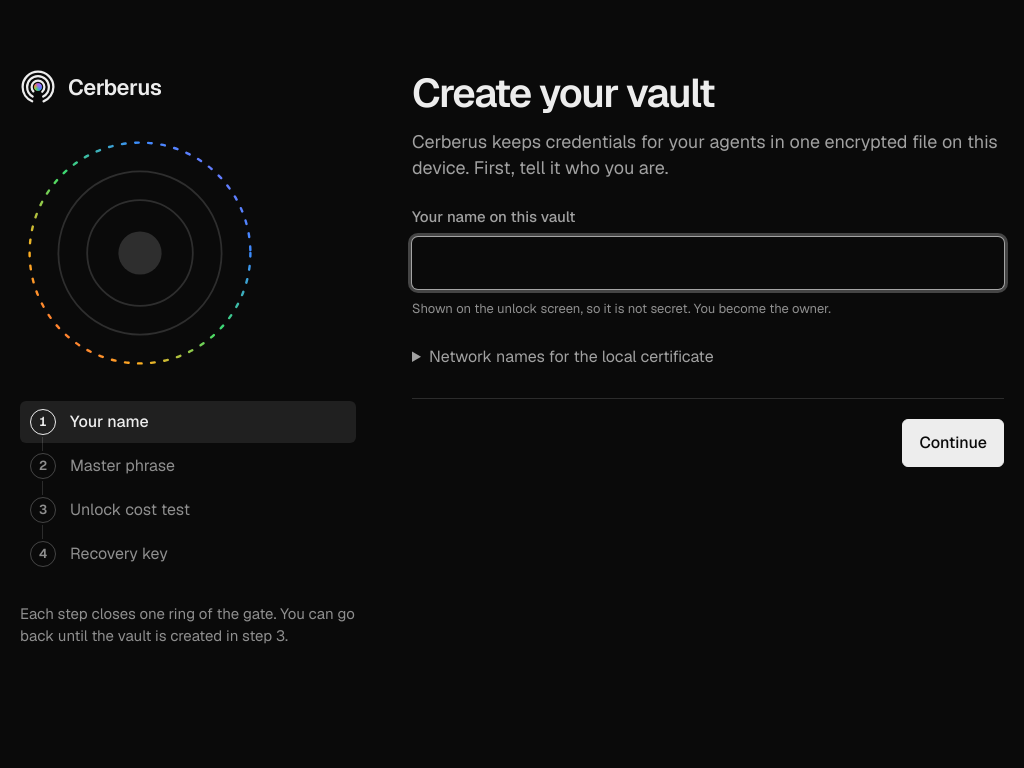
create vault › asks for a name before it continues
Click the button "Continue" at (953, 443), box [902,419,1004,467]
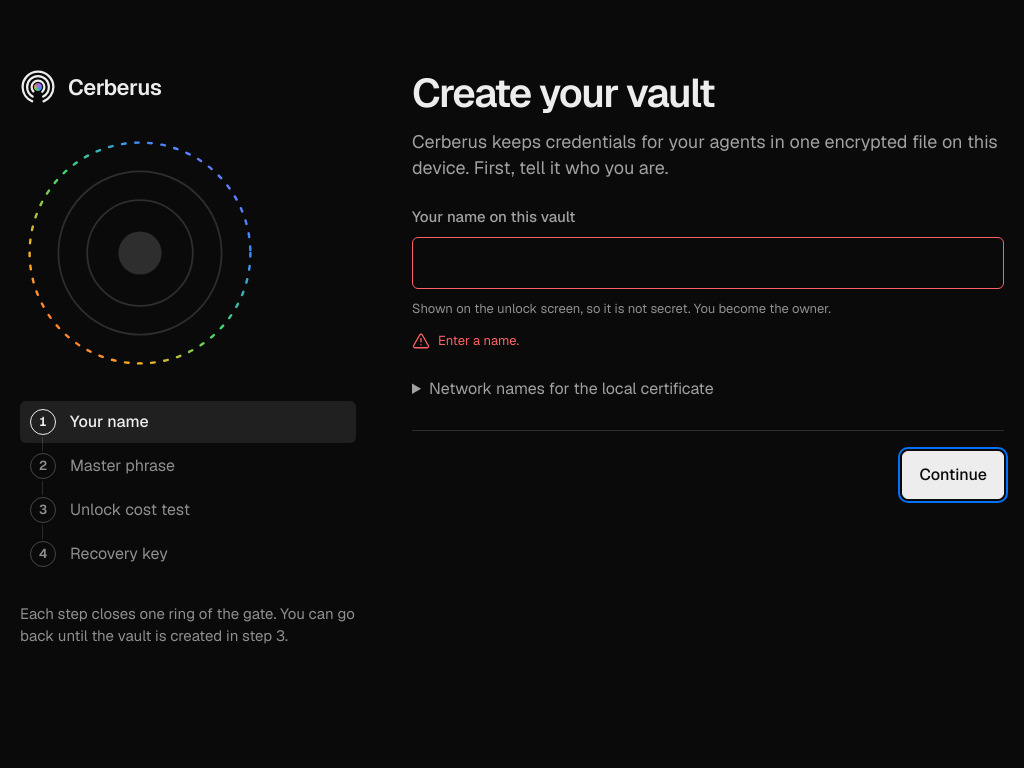
Expected: the heading "Create your vault" is shown, [412,67,714,119]
Expected: the text "Enter a name." is shown, [412,332,519,350]
